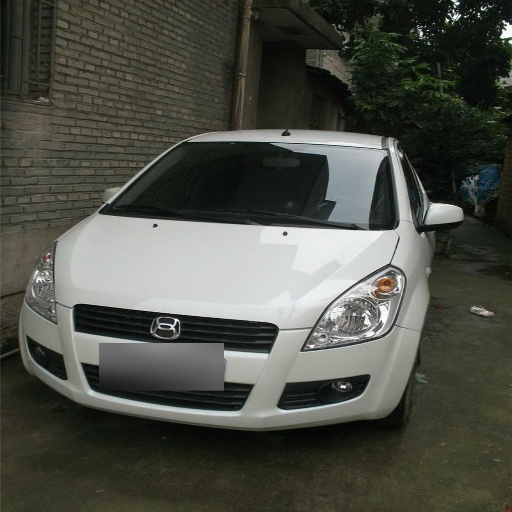front_bumper: (21, 298, 420, 430)
front_right_light: (27, 253, 55, 320)
hood: (57, 215, 398, 326)
